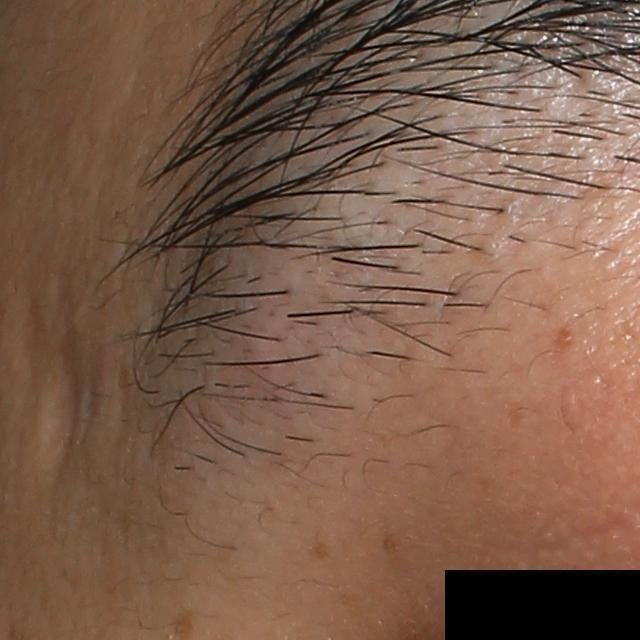melasma: (546, 328, 578, 356), (303, 539, 333, 557)
